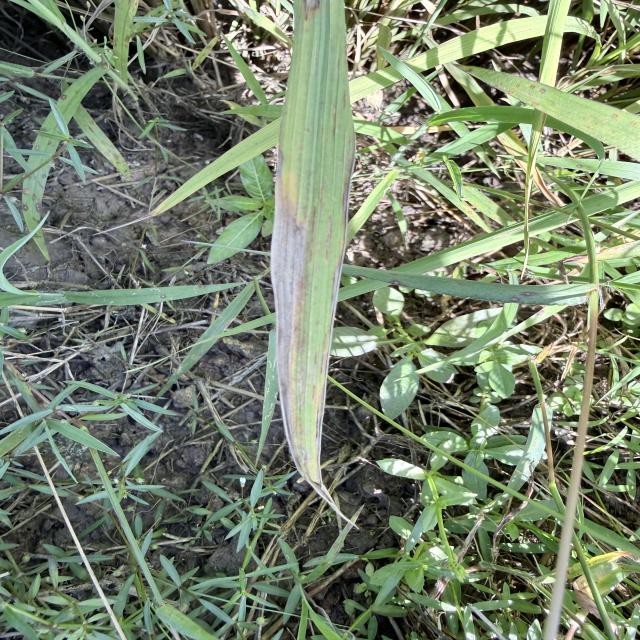Chay bia la: (272, 163, 340, 513), (314, 132, 356, 486)
